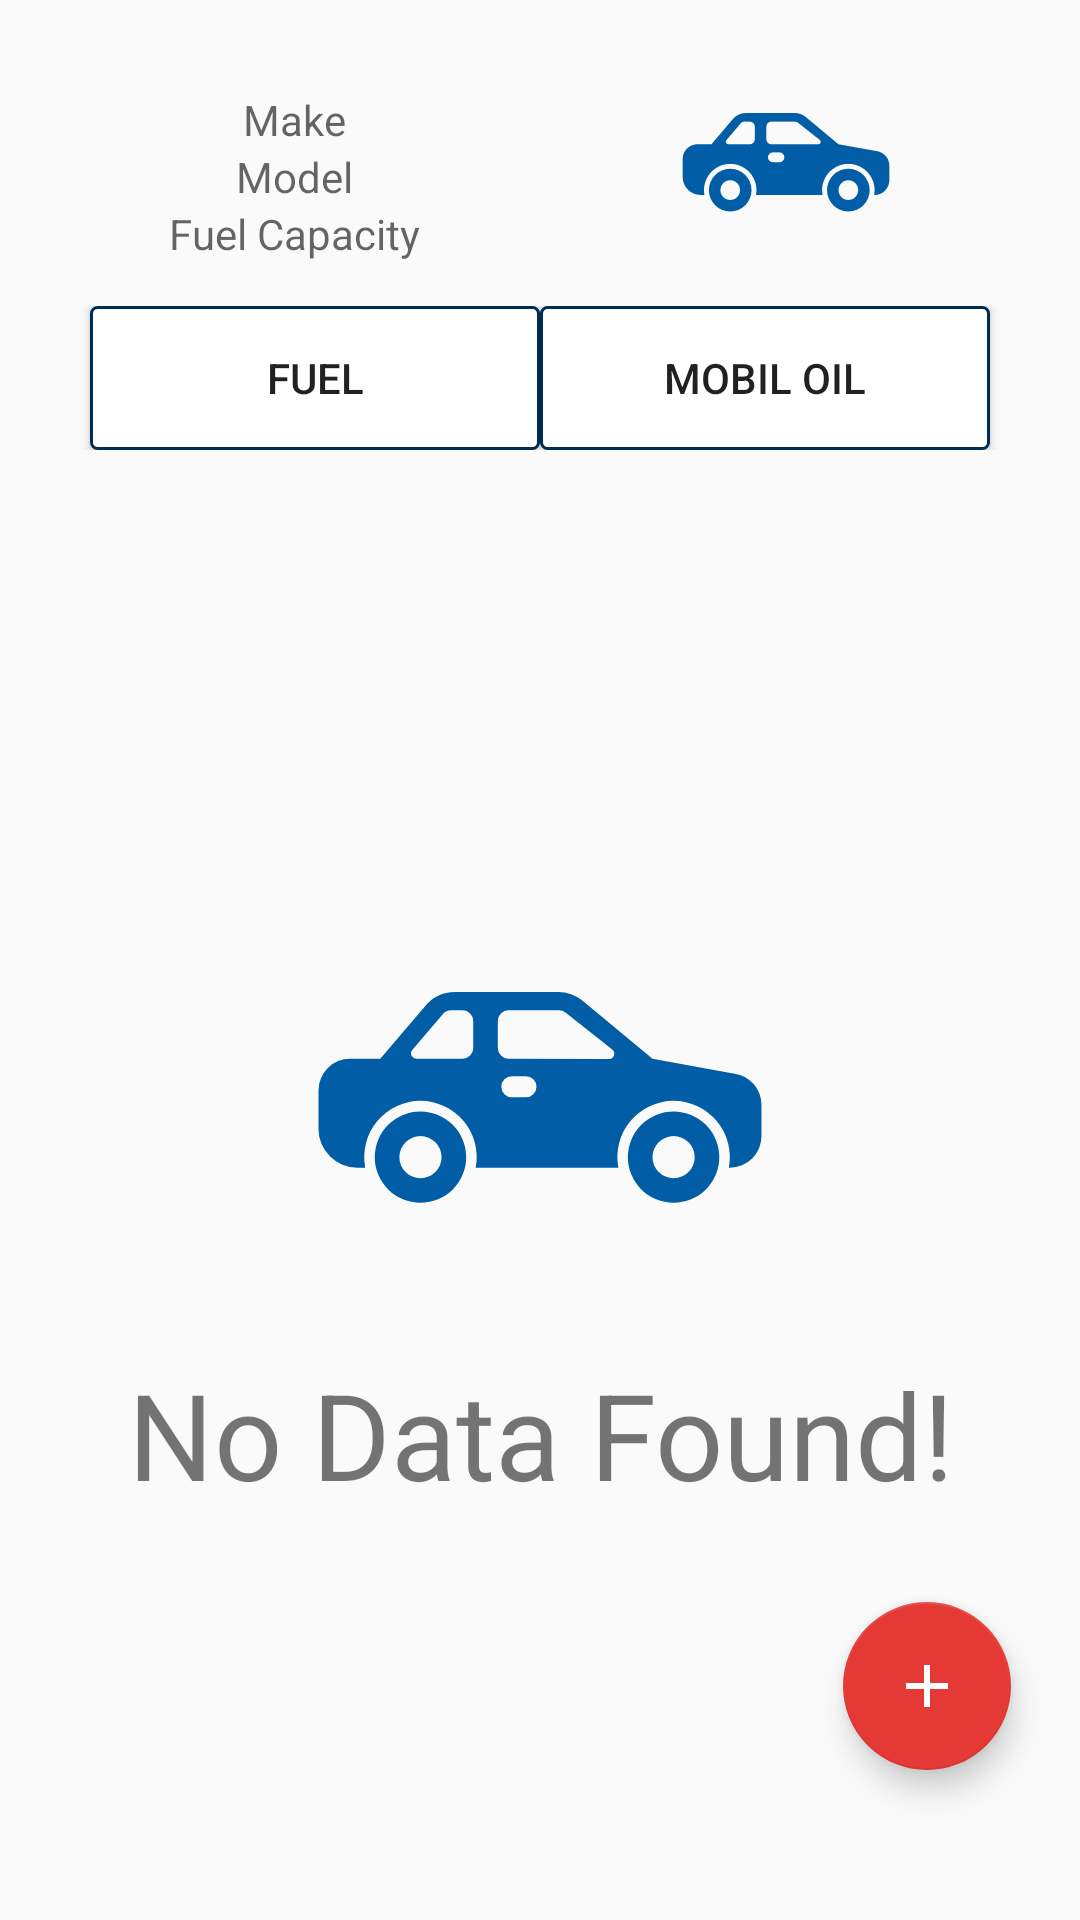

Named icons in this screenshot (1080x1920) and their centers, [x,y]:
add: [927,1686]
